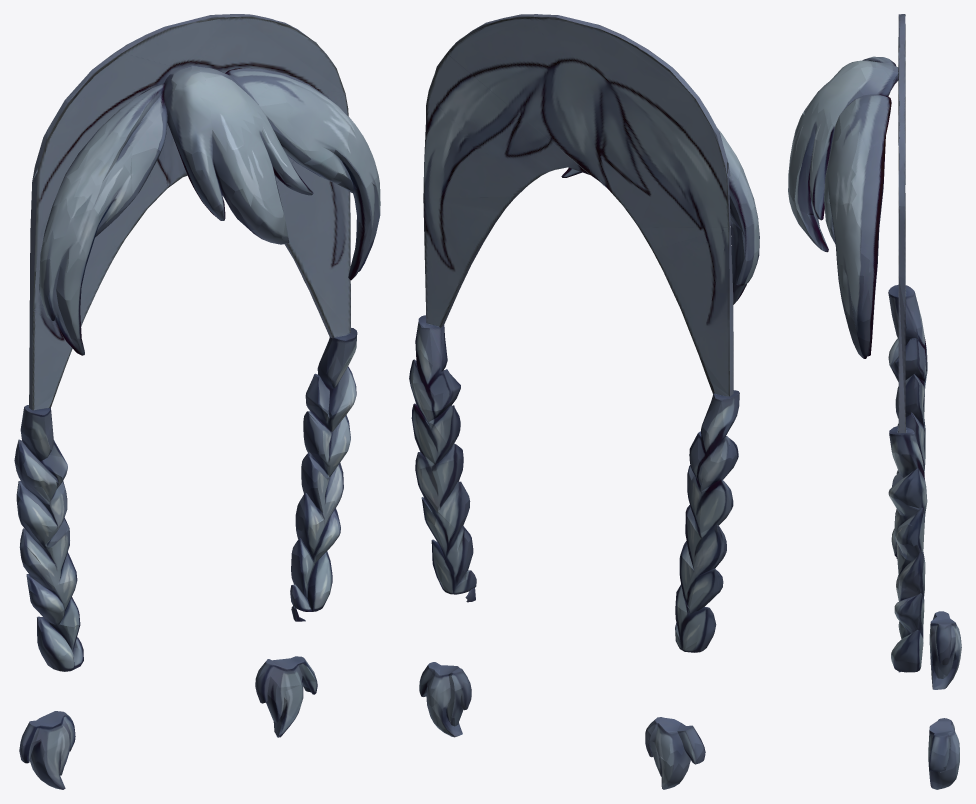
Rendered from nerith_f-meche-6-deux-tresses-face.glb.
The picture shows the model from 3 angles, left to right: view 1: azimuth 30°, elevation 25°; view 2: azimuth 150°, elevation 25°; view 3: azimuth 270°, elevation 25°; orthographic projection. The views are drawn at different scales.
Parts seen in each view (by area): view 1: geometry_0; view 2: geometry_0; view 3: geometry_0.
Part boxes in pixels (x1=…): geometry_0: x1=14, y1=14, x2=380, y2=789; geometry_0: x1=409, y1=14, x2=759, y2=789; geometry_0: x1=788, y1=14, x2=961, y2=789.
Size of the model in its own units: 0.8873 by 1.9 by 0.4245.
Materials: 1 (1 with a texture image).
